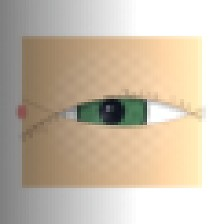hemorrhage_spot: (70, 91, 147, 153)
